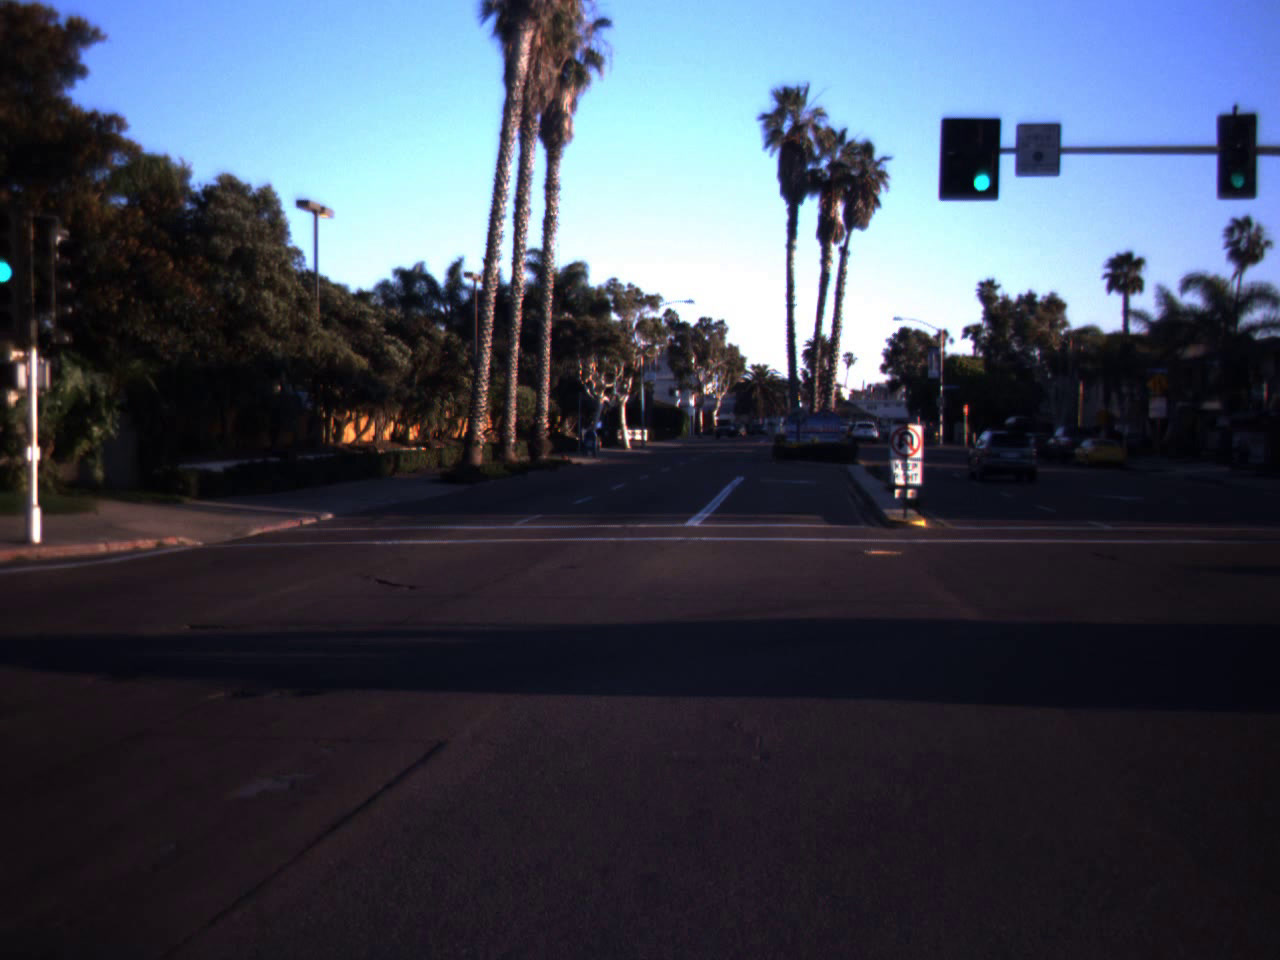go: (963, 122, 1002, 197), (1218, 125, 1257, 195)
